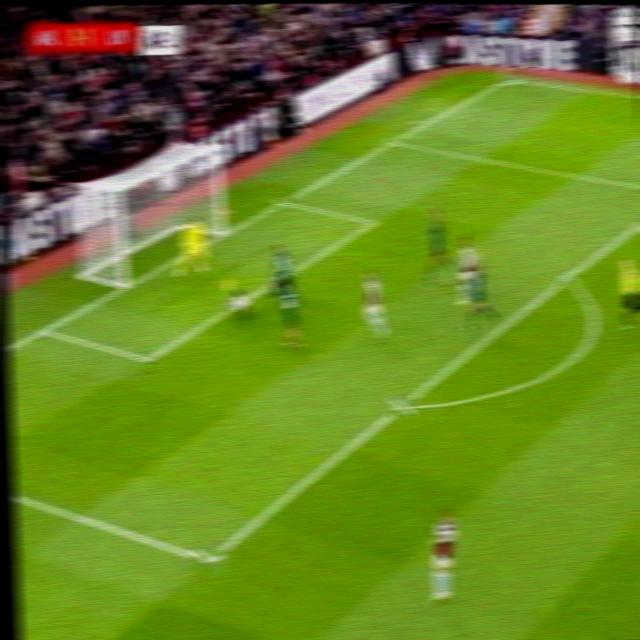bigarea_bottom_inner: (190, 537, 225, 581)
bigarea_top_outter: (384, 132, 401, 150)
bottom_arc_area_intersection: (389, 392, 414, 417)
corner: (498, 70, 519, 84)
smallarea_bottom_inner: (135, 343, 159, 374)
smallarea_bottom_outter: (30, 315, 55, 343)
smallarea_top_inner: (361, 213, 380, 230)
smallarea_top_outter: (272, 189, 293, 213)
top_arc_area_intersection: (558, 266, 576, 290)
